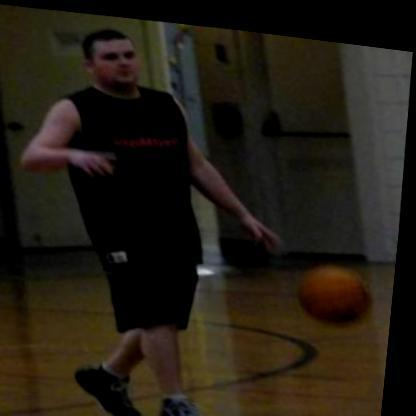basketball: (304, 253, 376, 320)
